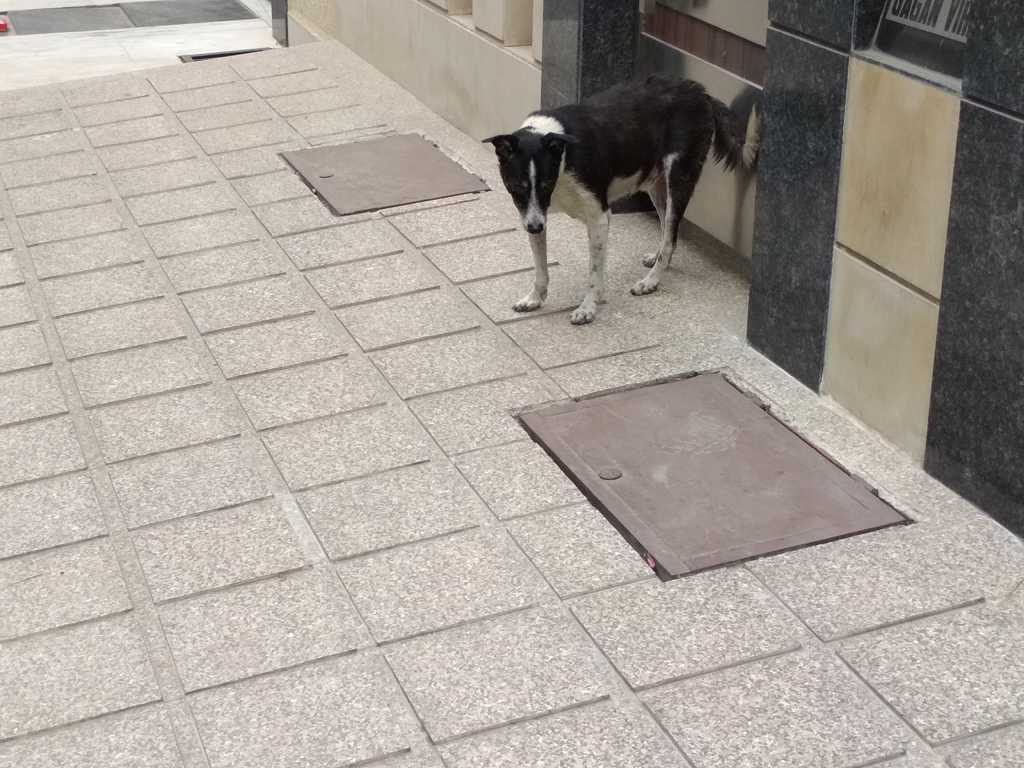dog: (482, 72, 756, 324)
